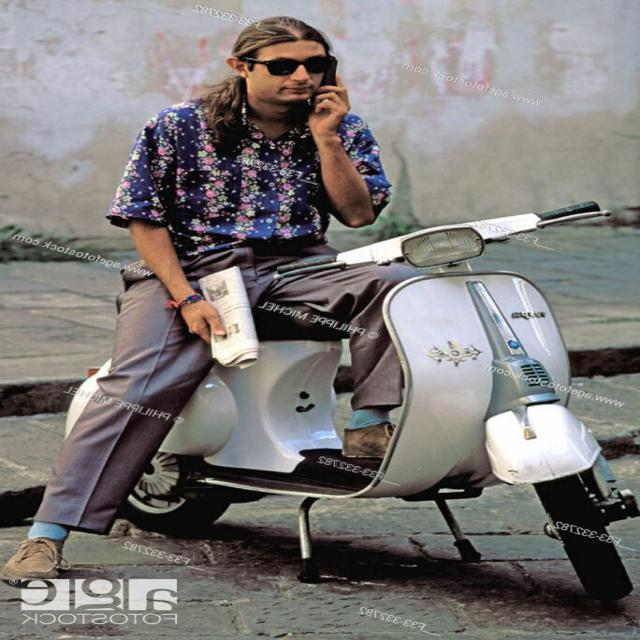Not Wearing Helmet: (168, 0, 412, 145)
